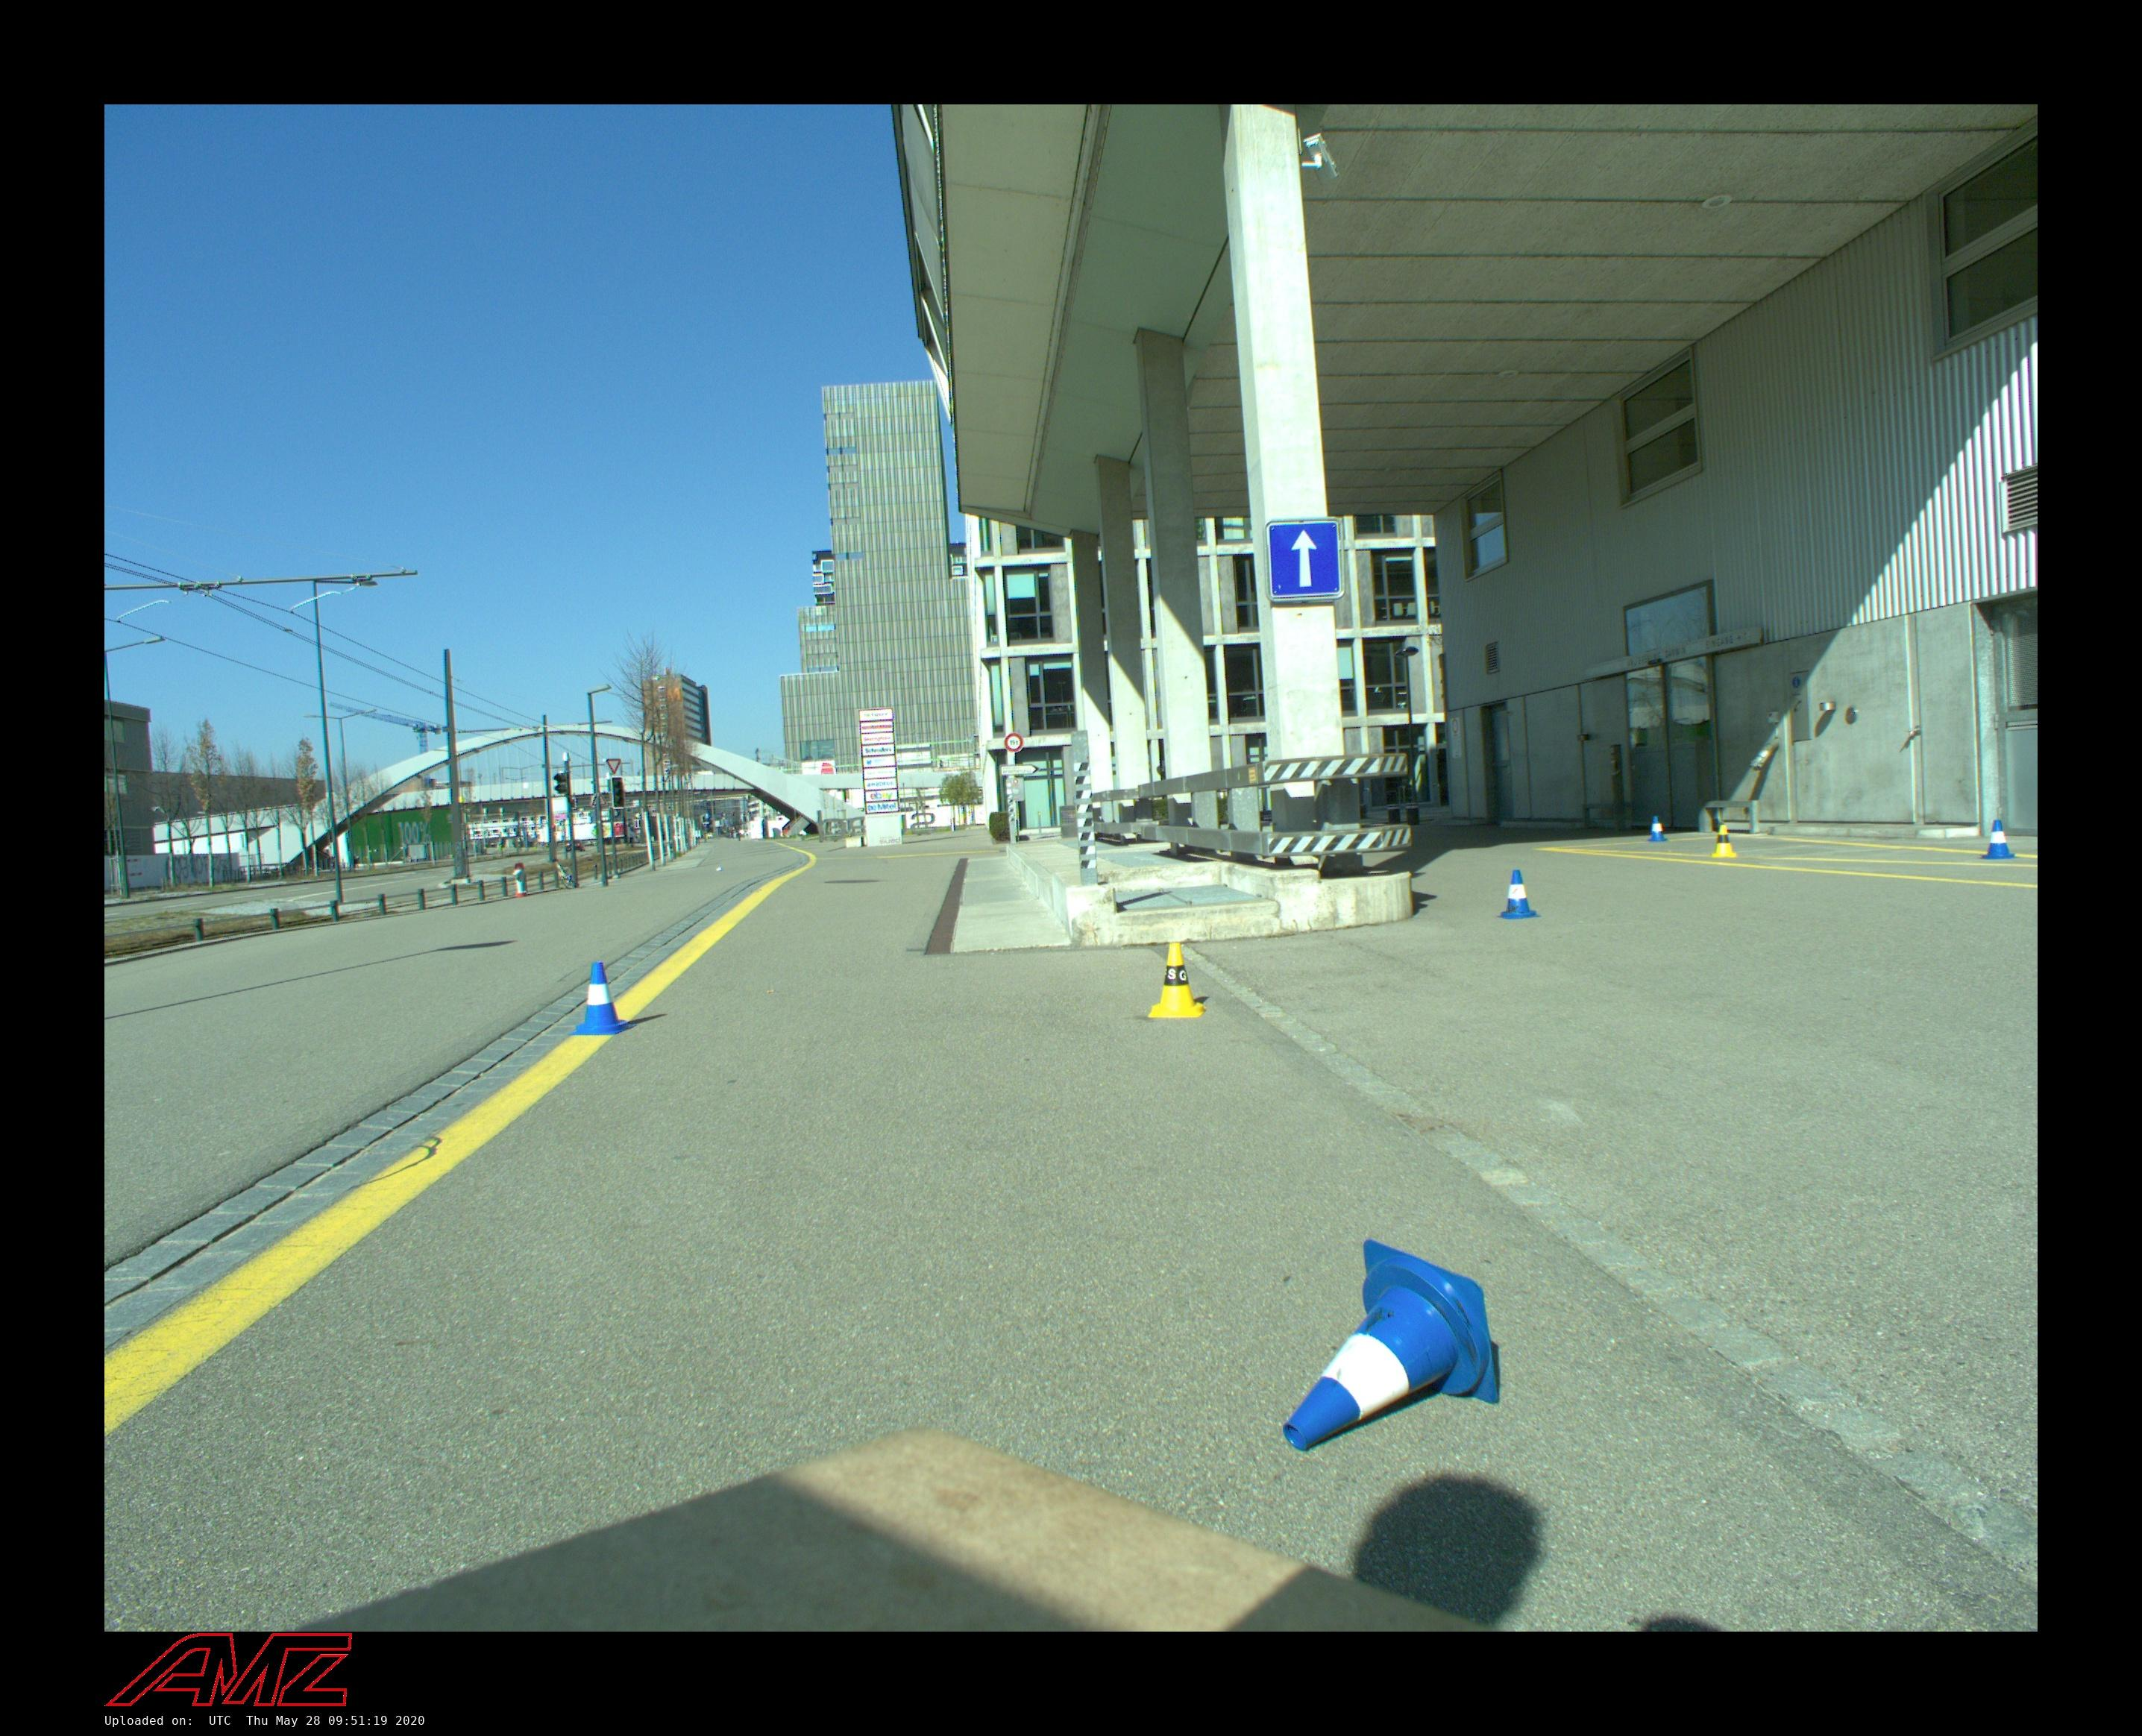blue_cone: (1283, 1240, 1501, 1451), (569, 962, 638, 1035), (1497, 870, 1541, 919), (1977, 820, 2018, 859), (1648, 817, 1667, 841)
yellow_cone: (1148, 944, 1208, 1019), (1710, 825, 1736, 857)
